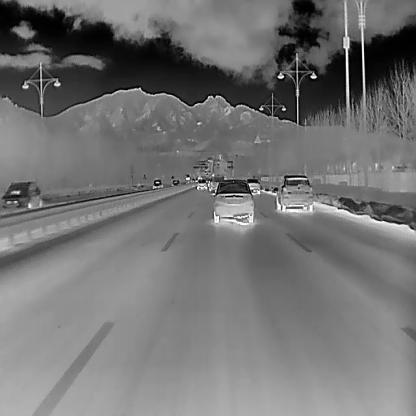car: (212, 179, 253, 223), (275, 174, 313, 210), (0, 181, 42, 211), (209, 176, 223, 194), (245, 177, 259, 193), (196, 179, 207, 190), (184, 172, 194, 184), (152, 179, 163, 189), (170, 179, 180, 186), (204, 169, 207, 173), (208, 169, 211, 173)
